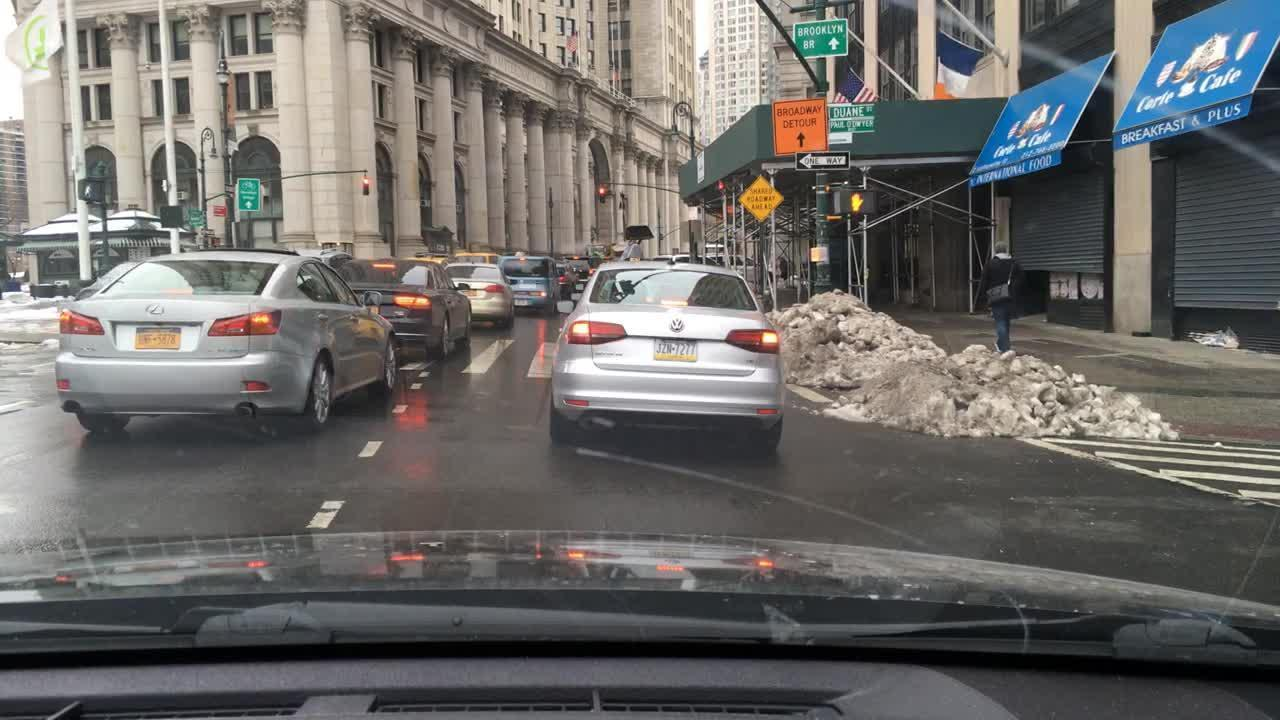Volkswagen: (669, 316, 686, 334)
lexus: (144, 302, 166, 315)
